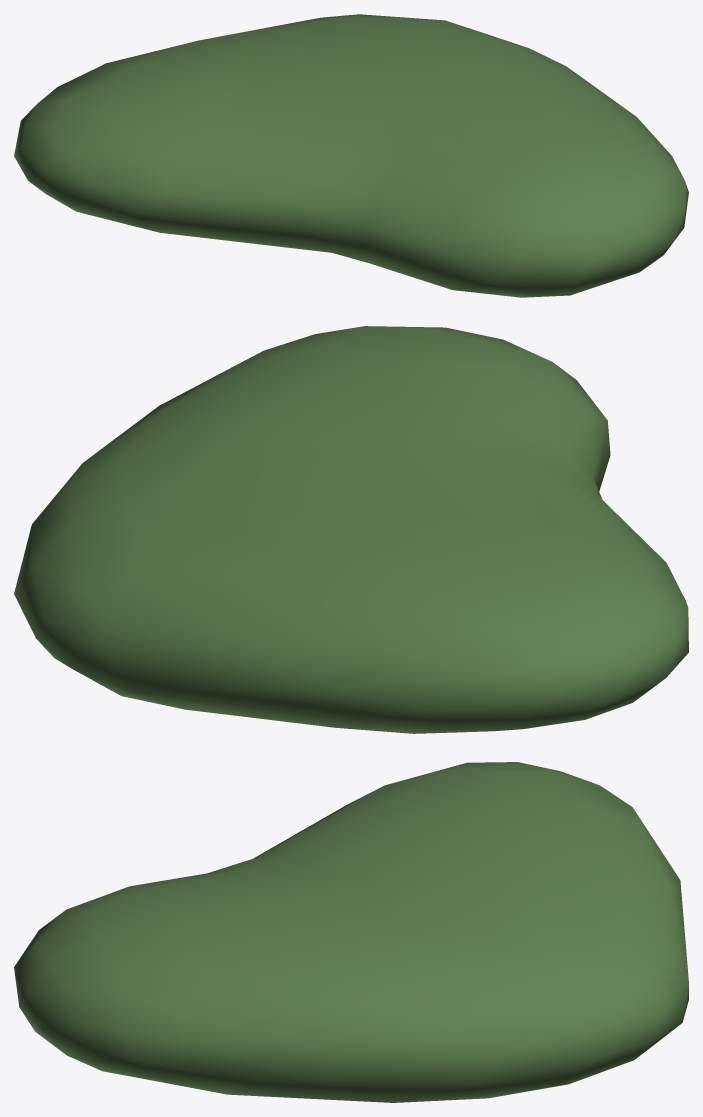
File: GlycineBush.fbx
3 renders of one model, top to bottom at view 1: azimuth 30°, elevation 25°; view 2: azimuth 150°, elevation 25°; view 3: azimuth 270°, elevation 25°, orthographic. The views are drawn at different scales.
Visible parts, largest first — view 1: Plane.055; view 2: Plane.055; view 3: Plane.055.
Part boxes in pixels (<box>): Plane.055: <box>14,14,688,297</box>; Plane.055: <box>14,326,688,733</box>; Plane.055: <box>14,762,688,1102</box>.
Bounding box in the file's own units: 880 × 239 × 921.
